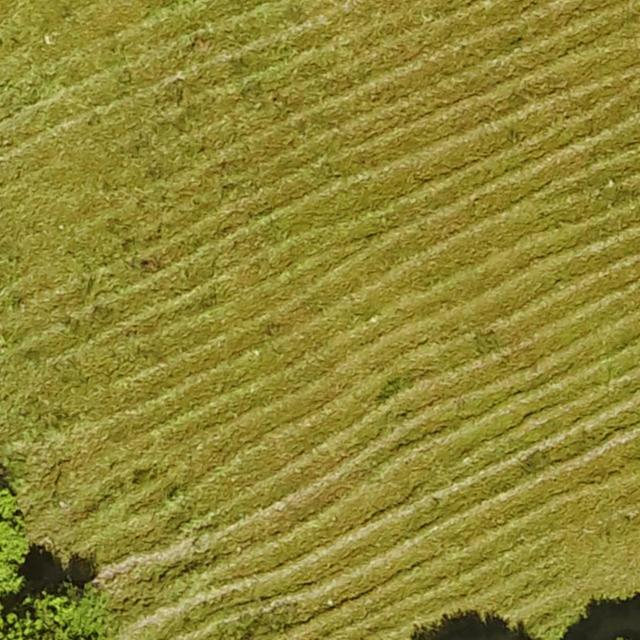tree: (4, 580, 120, 640), (0, 468, 28, 614)
